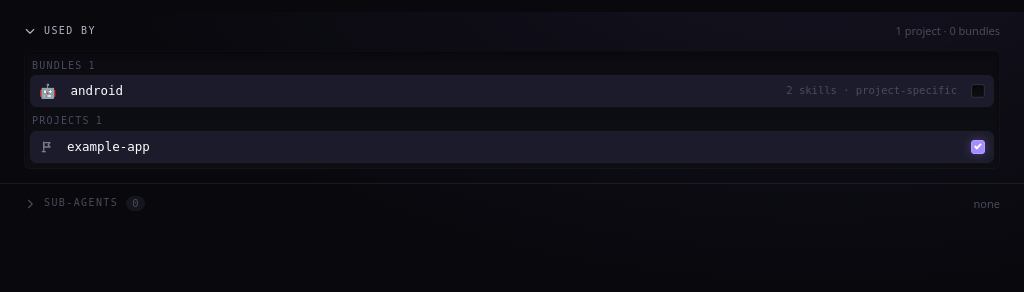
Test case: ConnectionsPanel › SUB-AGENTS ships collapsed with its count on the head
Check: the button "Attach to sub-agent" is not shown
Click the button with test id "side-section-subagents": (81, 203) [24,184,966,223]
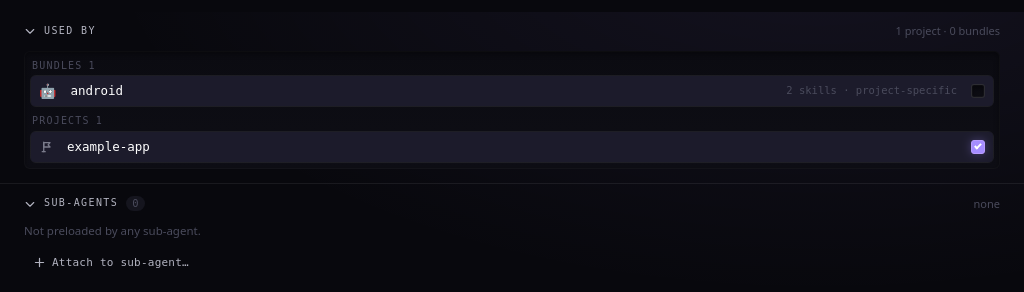
Check: the button "Attach to sub-agent…" is shown, box [24,250,198,276]
